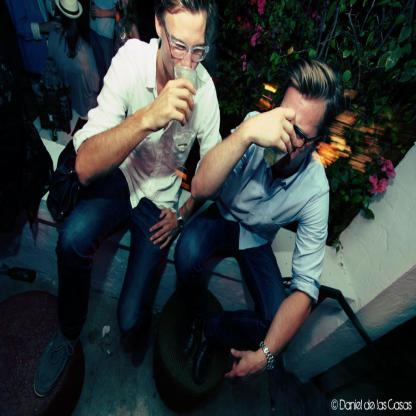face: (271, 91, 321, 170), (165, 11, 207, 87)
